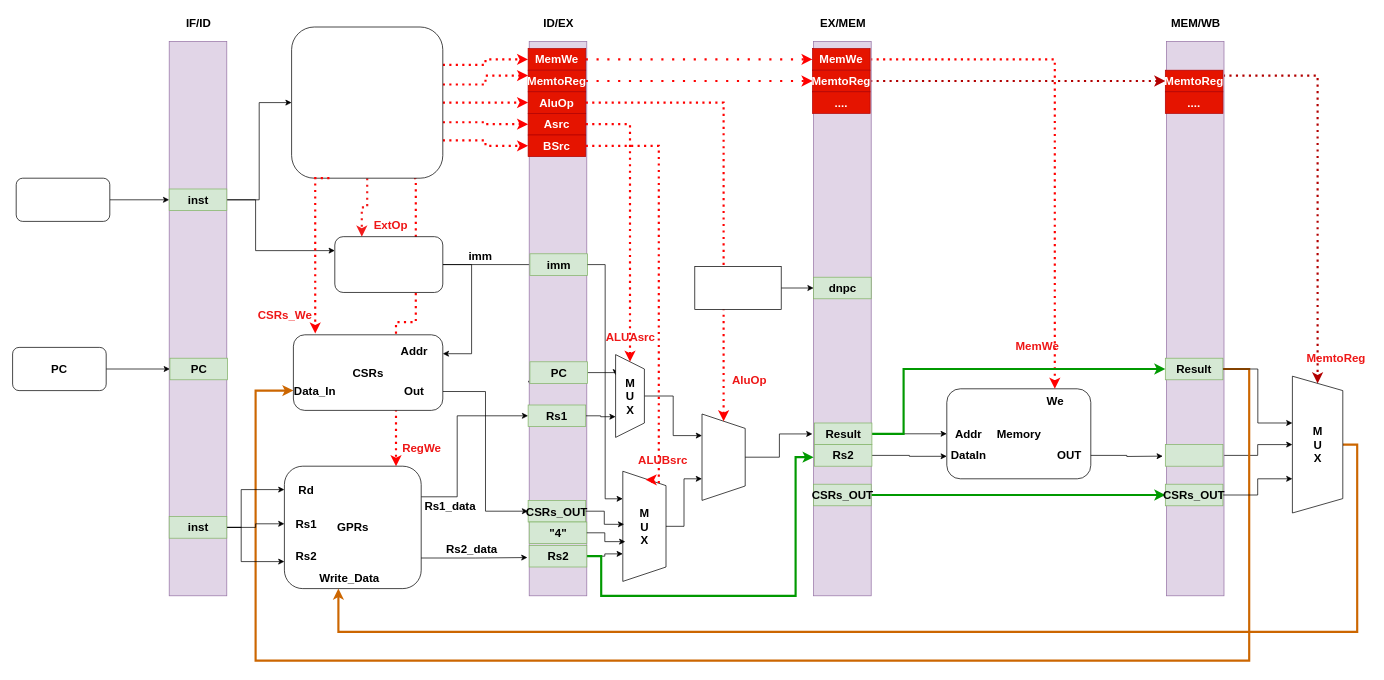
This 1384x680 diagram has some shape labels left out. The shapes that lost their labels are listed below. From the top down, each one's centre as x and y in pixels, then its label:
At [367,102]: "Control unit".
At [62,199]: "Inst mem".
At [388,264]: "EXP".
At [737,288]: "dnpc相关处理".
At [723,456]: "A L U".
At [1194,455]: "Mem_OUT".
